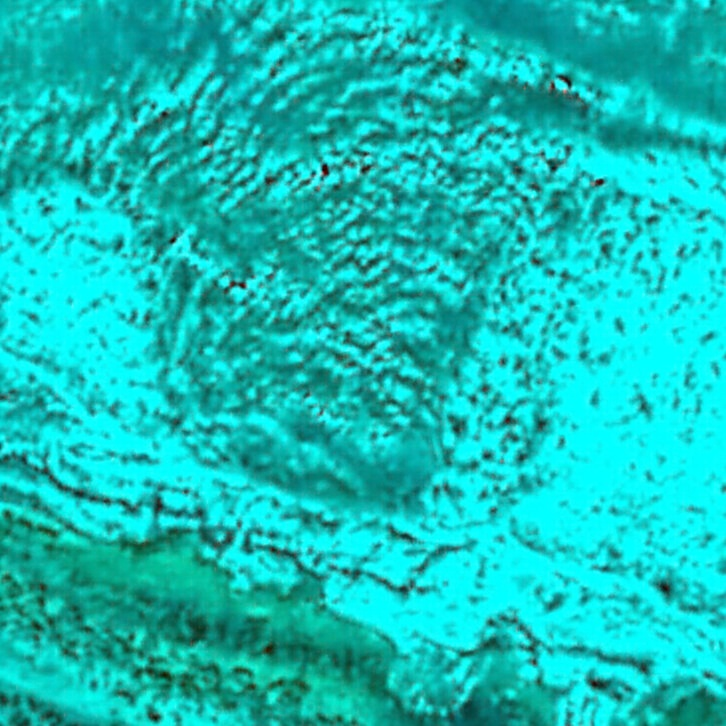rip_current: (99, 64, 531, 534)
